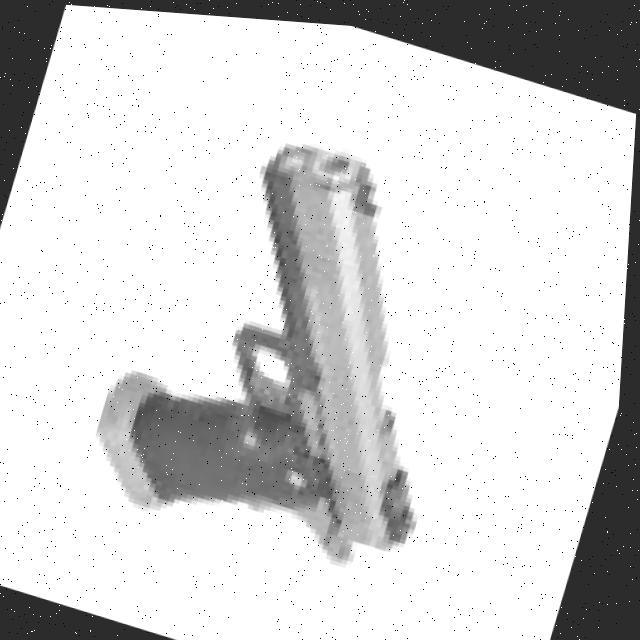pistol: (74, 90, 524, 586)
